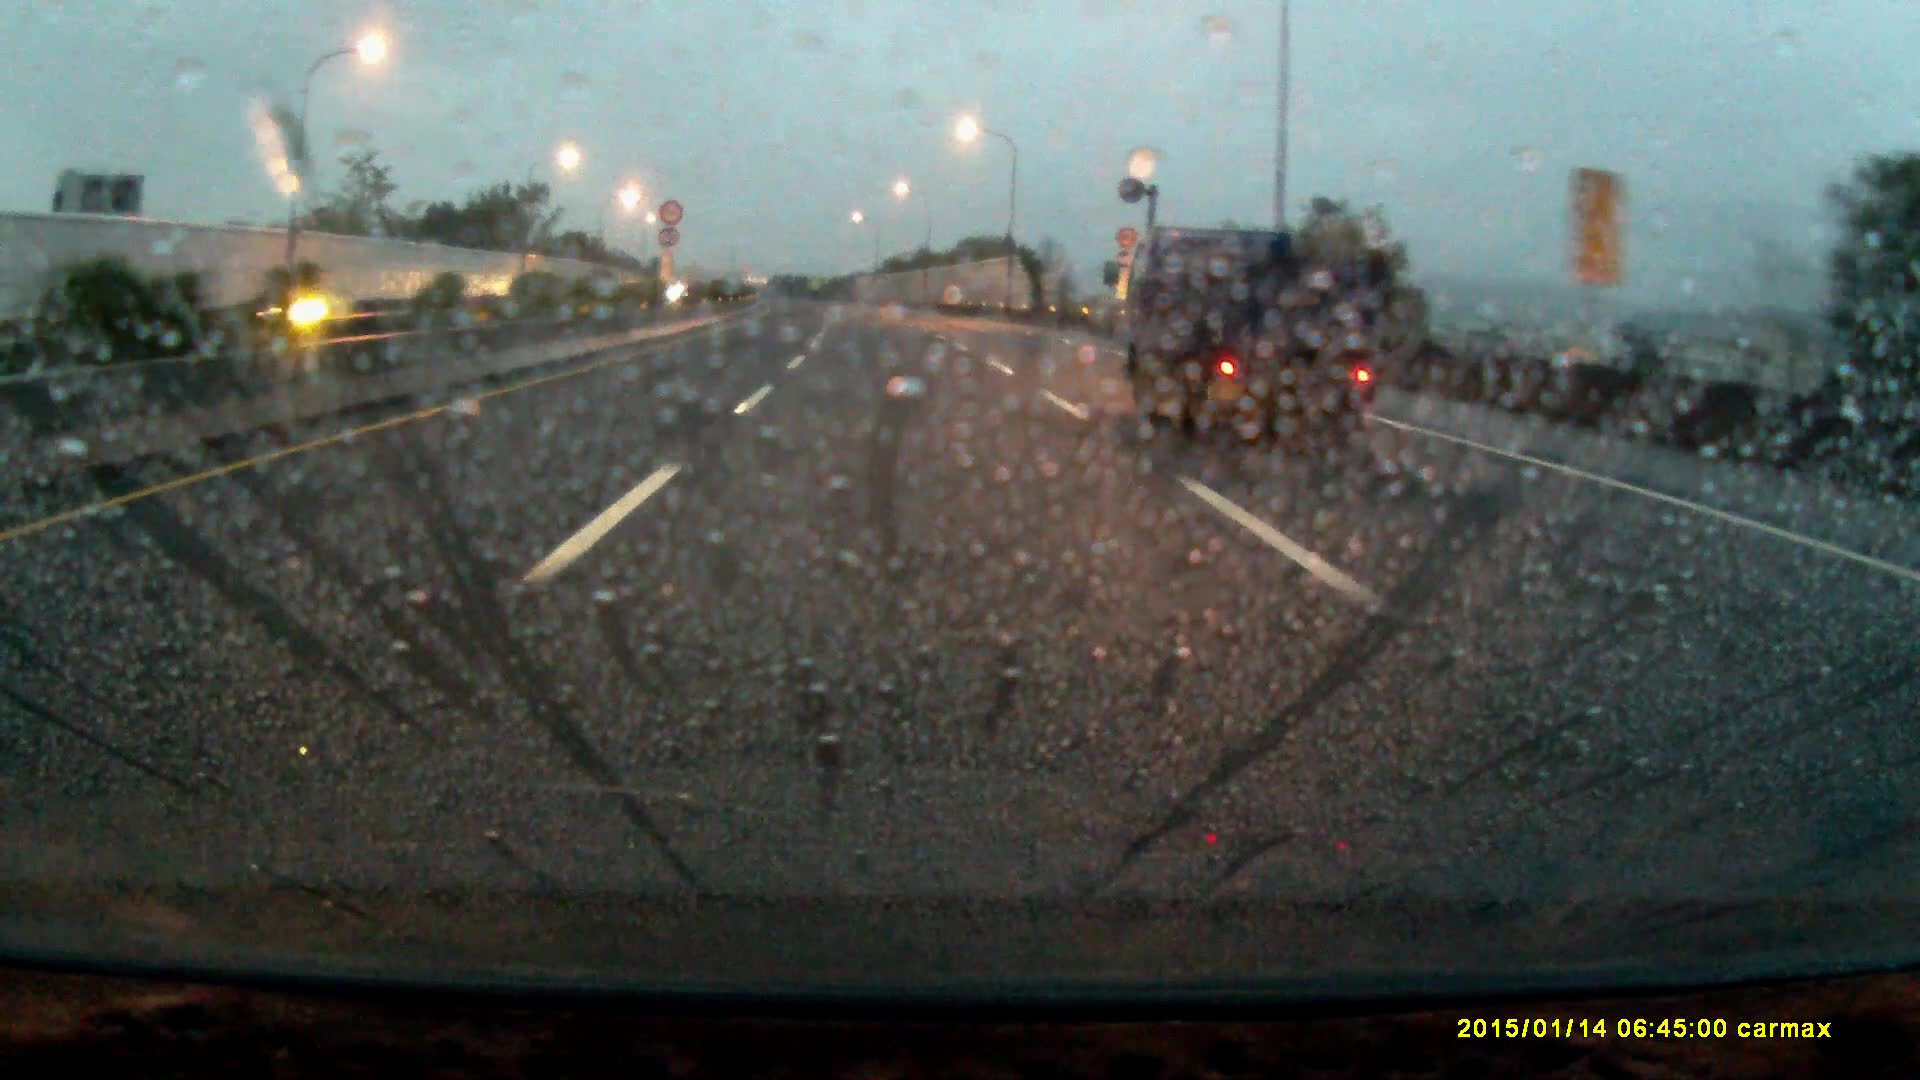vehicle: (1131, 228, 1389, 480), (244, 289, 347, 332)
